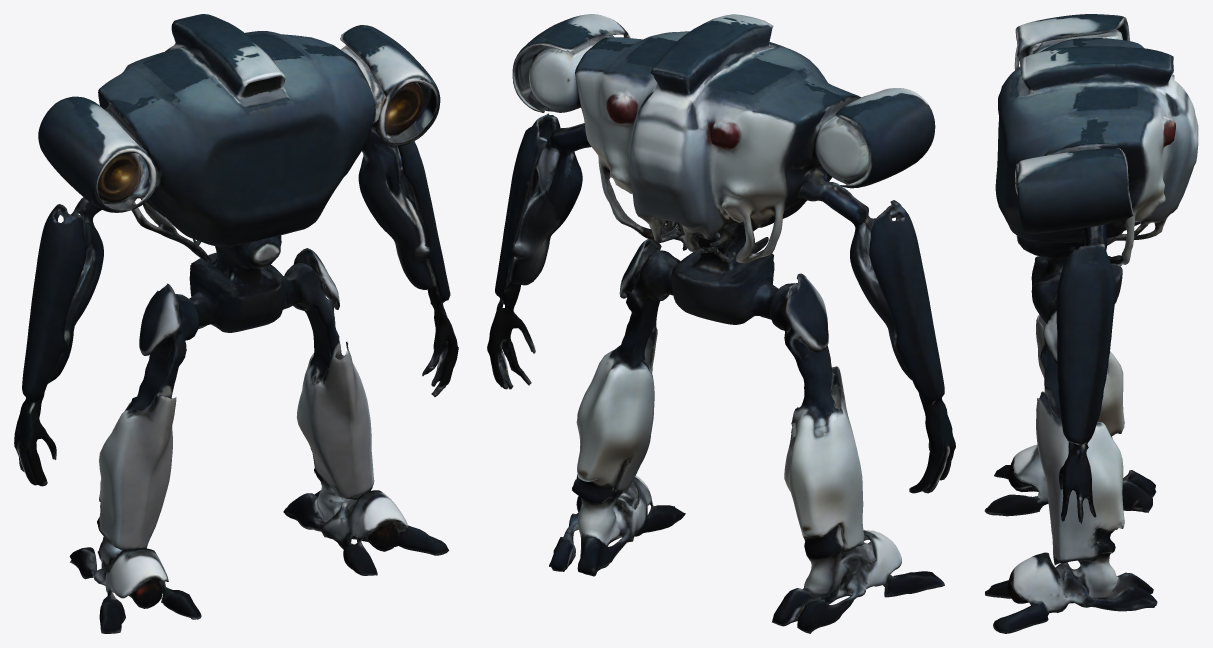
The model's file is CR_88_Robot_Design_1105211549.glb.
3 renders of one model, left to right at view 1: azimuth 30°, elevation 25°; view 2: azimuth 150°, elevation 25°; view 3: azimuth 270°, elevation 25°, orthographic. The views are drawn at different scales.
Bounding box in the file's own units: 1.76 × 2 × 0.7743.
1 material, 1 textured.
